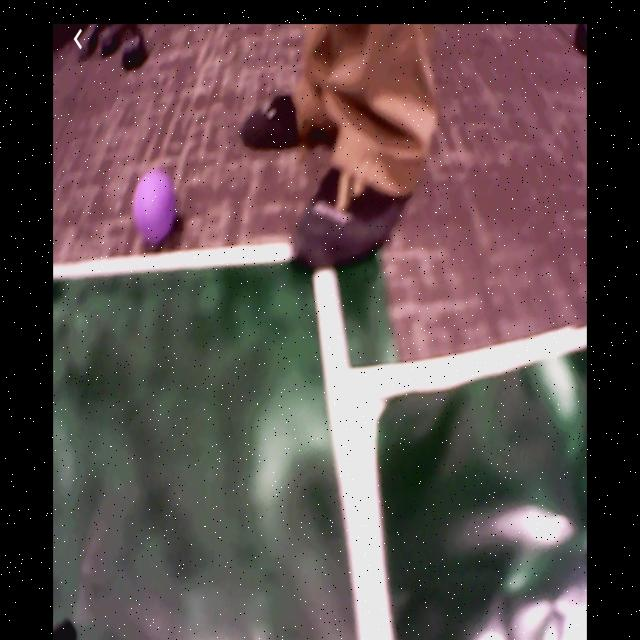ball: (134, 170, 174, 241)
